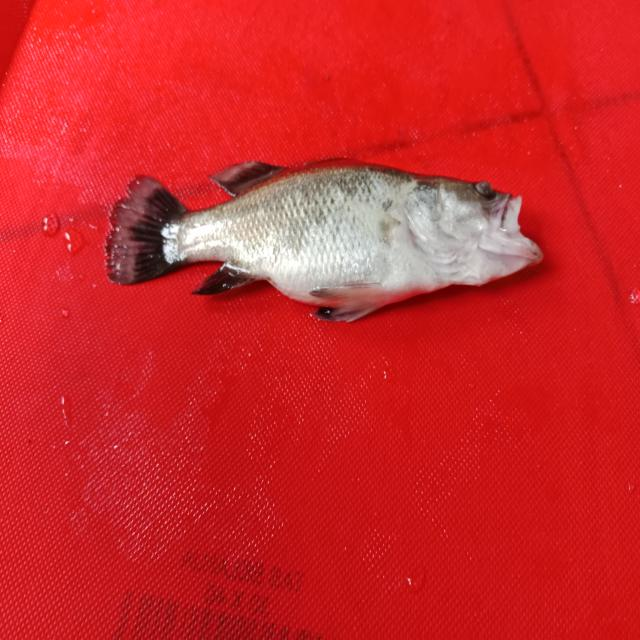ikan: (98, 120, 558, 340)
